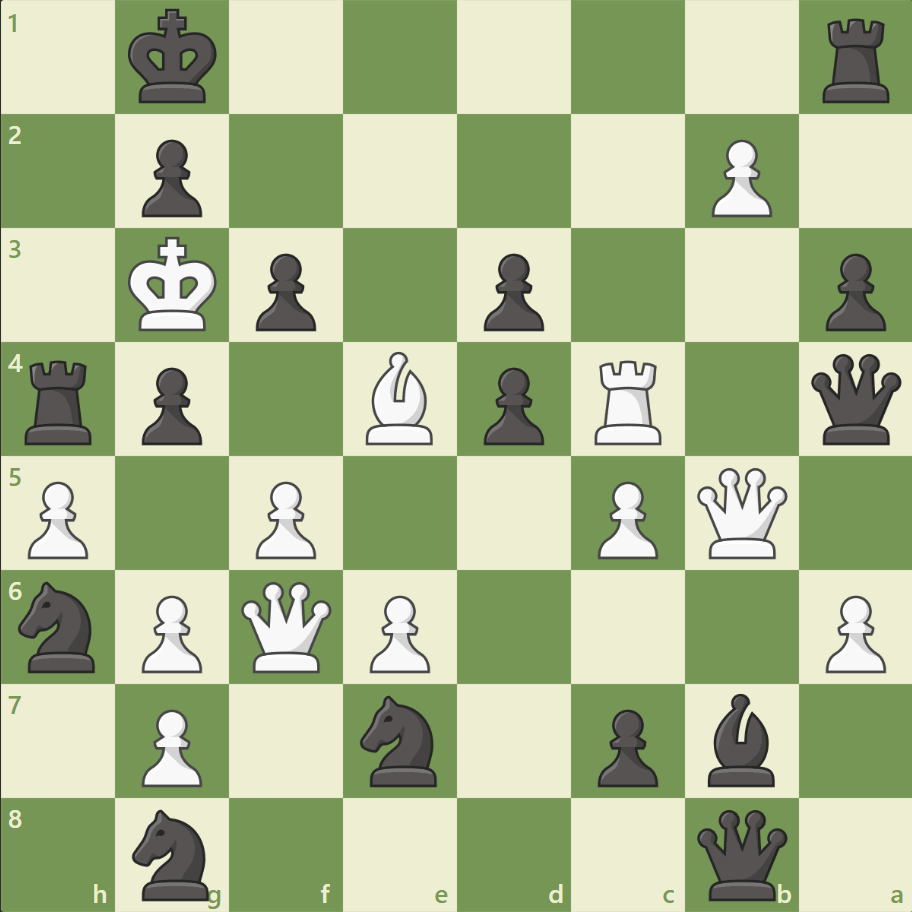B: (358, 347, 442, 449)
K: (124, 231, 224, 339)
P: (133, 700, 208, 791), (133, 586, 208, 677), (247, 473, 322, 564), (20, 473, 95, 564), (701, 132, 776, 223), (815, 586, 889, 677), (361, 586, 435, 677), (588, 473, 662, 564)
Q: (237, 576, 336, 676), (691, 463, 790, 562)
R: (587, 352, 670, 449)
b: (698, 687, 782, 790)
k: (124, 4, 224, 112)
n: (351, 688, 449, 791), (124, 802, 222, 904), (11, 575, 108, 677)
p: (474, 359, 549, 450), (133, 359, 208, 450), (474, 246, 549, 337), (247, 246, 322, 337), (133, 132, 208, 223), (588, 700, 662, 791), (815, 246, 889, 337)
q: (805, 349, 904, 449), (691, 804, 790, 903)
r: (19, 352, 102, 449), (814, 12, 897, 109)
